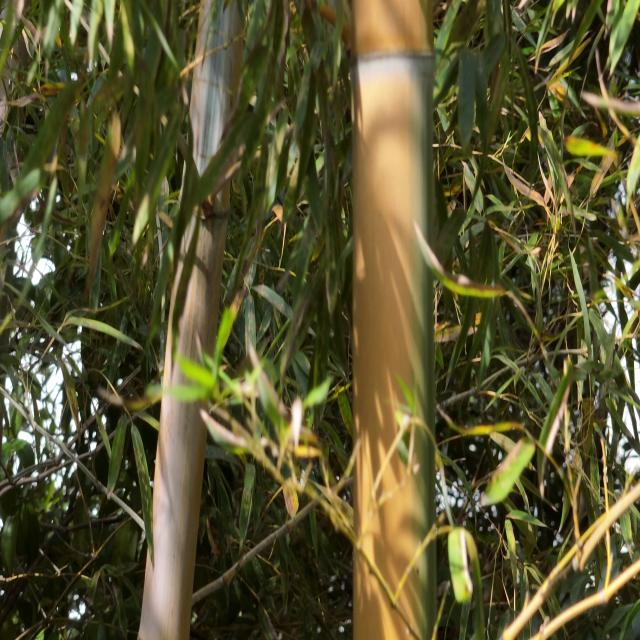Bamboo-shoots: (137, 0, 245, 640)
